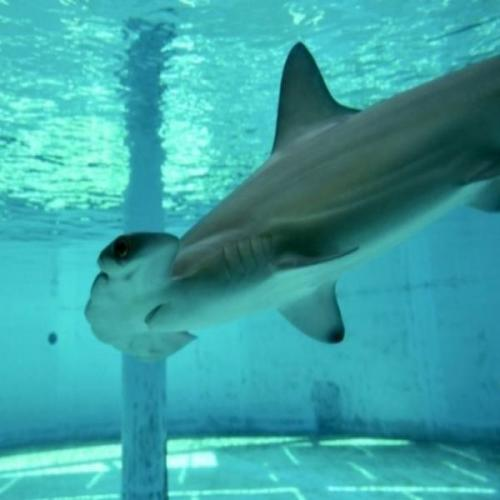shark-endangered: (83, 43, 500, 366)
